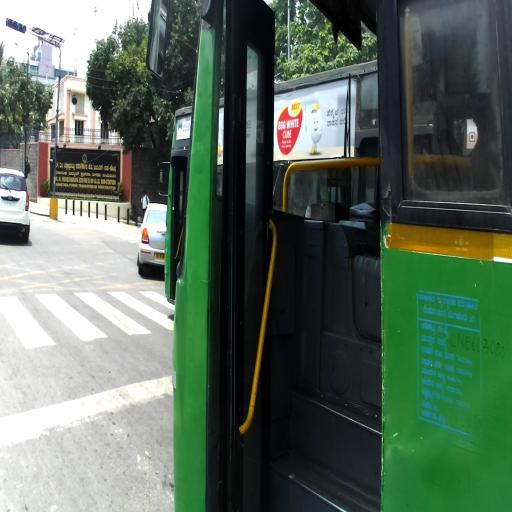street_light_0: (14, 41, 29, 57)
